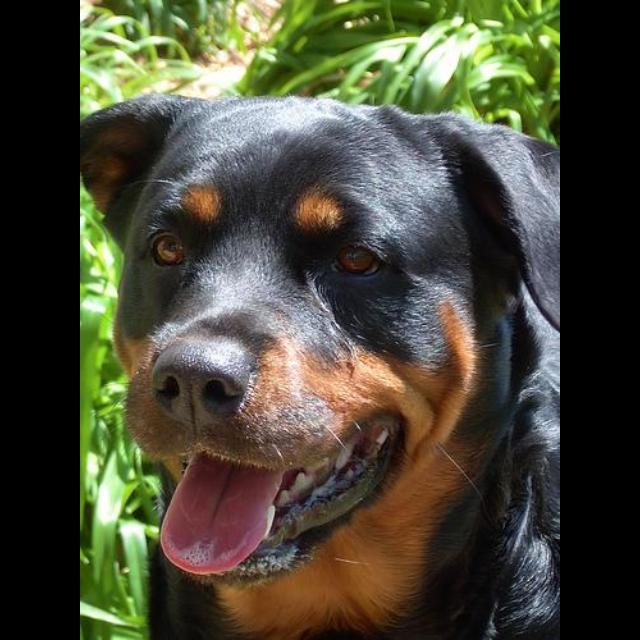rottweiler: (81, 91, 559, 640)
